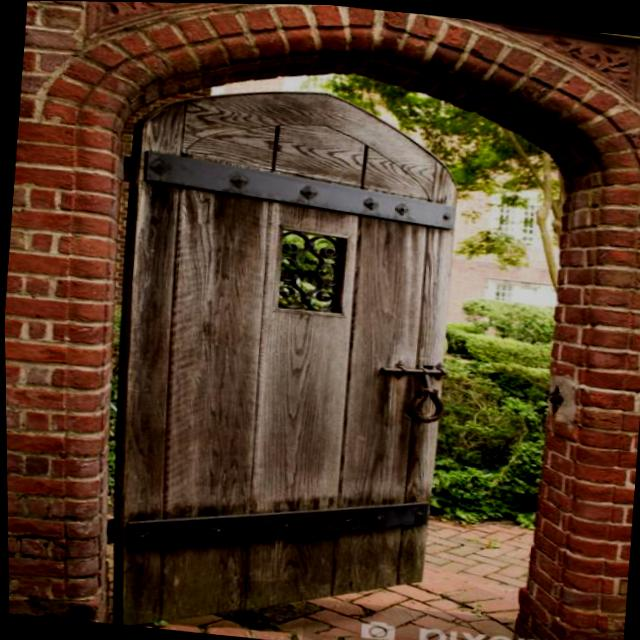semi-open: (31, 0, 639, 639)
